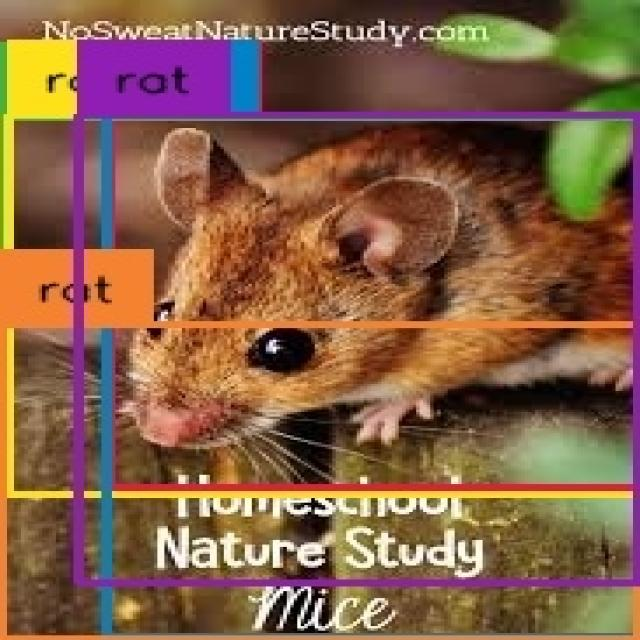rat: (2, 116, 638, 638), (107, 116, 638, 638), (79, 115, 638, 583), (9, 116, 638, 496), (2, 326, 638, 640), (112, 116, 640, 489)
